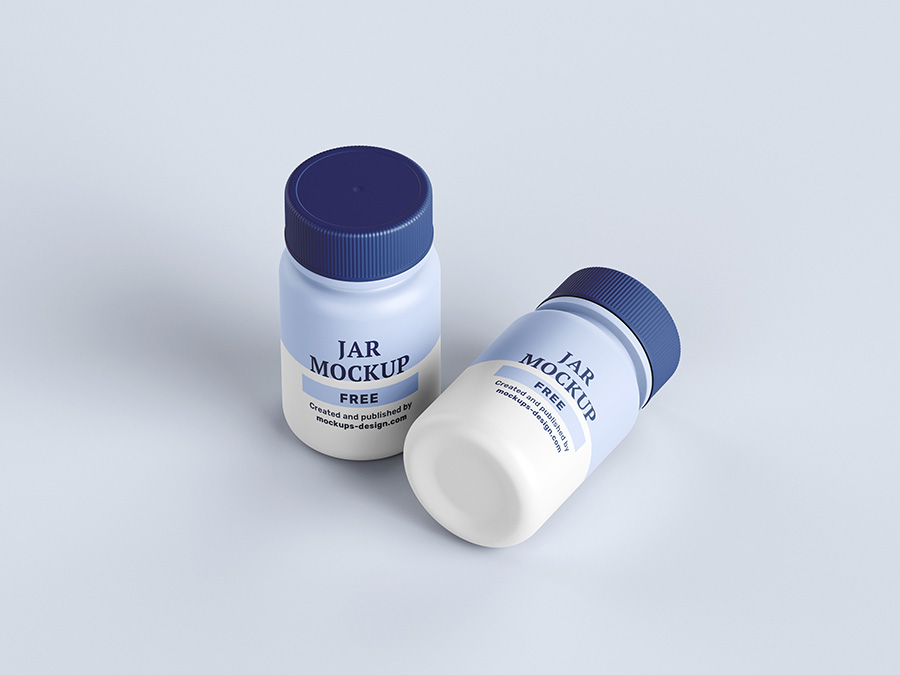Medicine: (392, 258, 710, 564), (264, 130, 456, 474)
